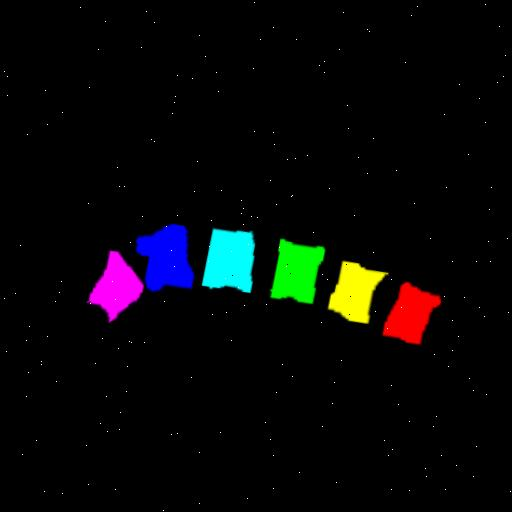L1: (382, 286, 440, 348)
L2: (327, 264, 387, 327)
L3: (270, 242, 323, 307)
L4: (201, 231, 254, 295)
L5: (135, 227, 193, 292)
S1: (88, 252, 142, 322)
